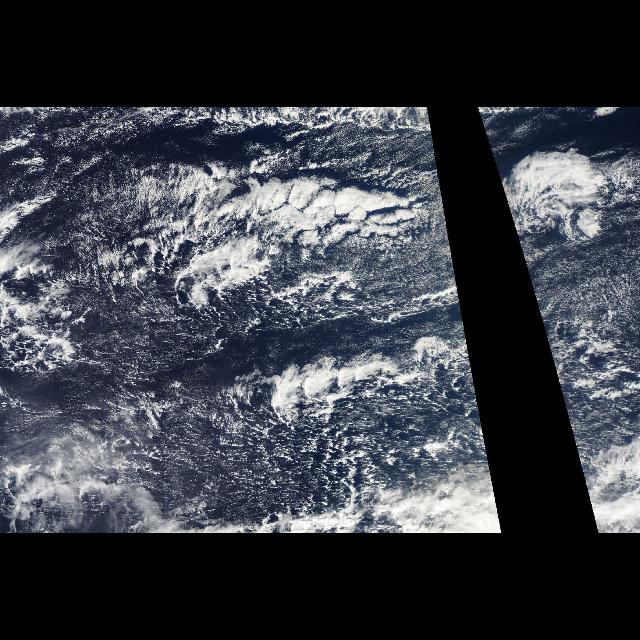Gravel: (282, 358, 492, 514)
Sugar: (68, 110, 180, 230), (519, 244, 635, 330), (156, 432, 262, 510), (366, 245, 466, 327)
